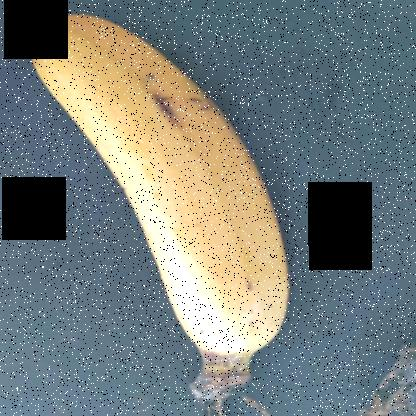freshripe: (27, 8, 314, 370)
